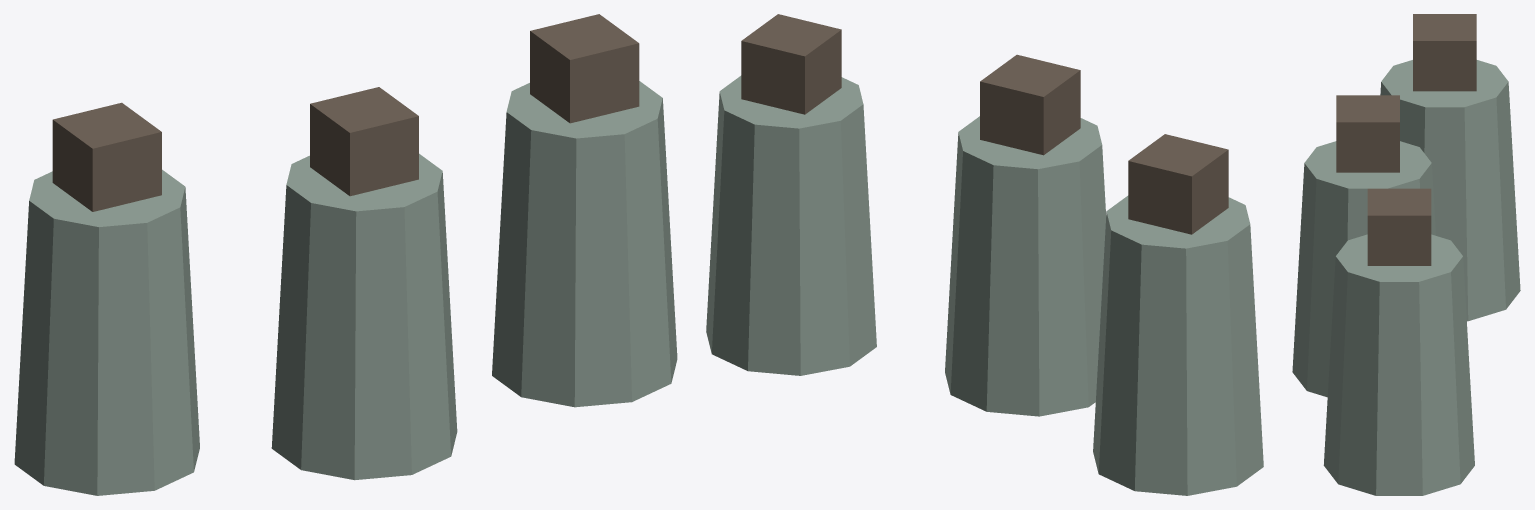
File: Flasks.fbx
3 views of the same model, side by side, from view 1: azimuth 30°, elevation 25°; view 2: azimuth 150°, elevation 25°; view 3: azimuth 270°, elevation 25° (orthographic). The views are drawn at different scales.
Parts seen in each view (by area): view 1: Flasks; view 2: Flasks; view 3: Flasks.
Boxes of the visible parts, box(x1,y1,x2,y2) form: Flasks: box(14, 14, 677, 495); Flasks: box(706, 14, 1263, 495); Flasks: box(1292, 14, 1520, 495).
Size of the model in its own units: 13.99 by 7.3 by 5.73.
